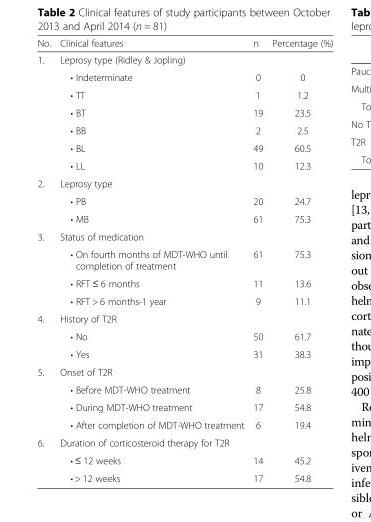table: (36, 37, 332, 483)
table column: (54, 37, 248, 483), (266, 37, 332, 483), (36, 37, 54, 483), (248, 37, 266, 483)
table column header: (36, 37, 332, 50)
table row: (36, 245, 332, 274), (36, 50, 332, 68), (36, 85, 332, 103), (36, 103, 332, 121), (36, 138, 332, 156), (36, 156, 332, 174), (36, 174, 332, 192), (36, 209, 332, 227), (36, 227, 332, 245), (36, 291, 332, 309), (36, 309, 332, 327), (36, 327, 332, 345), (36, 362, 332, 380), (36, 380, 332, 398), (36, 415, 332, 433), (36, 433, 332, 451), (36, 68, 332, 85), (36, 121, 332, 138), (36, 192, 332, 209), (36, 274, 332, 291), (36, 345, 332, 362), (36, 398, 332, 415), (36, 451, 332, 468), (36, 468, 332, 483), (36, 37, 332, 50)
table spanning cell: (36, 50, 54, 174), (36, 227, 54, 309), (36, 362, 54, 433), (36, 174, 54, 227), (36, 309, 54, 362), (36, 433, 54, 483)
